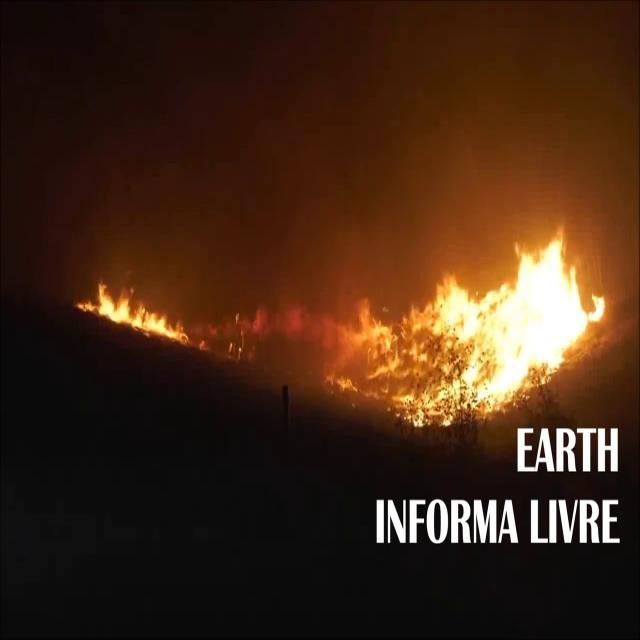Fire: (514, 226, 606, 387), (428, 273, 514, 425), (333, 292, 428, 428), (76, 282, 140, 326), (132, 302, 190, 346), (323, 374, 361, 394), (198, 340, 208, 352)
Smoke: (49, 0, 640, 226), (138, 226, 428, 302), (49, 227, 137, 281), (428, 225, 514, 274), (606, 228, 640, 300)
